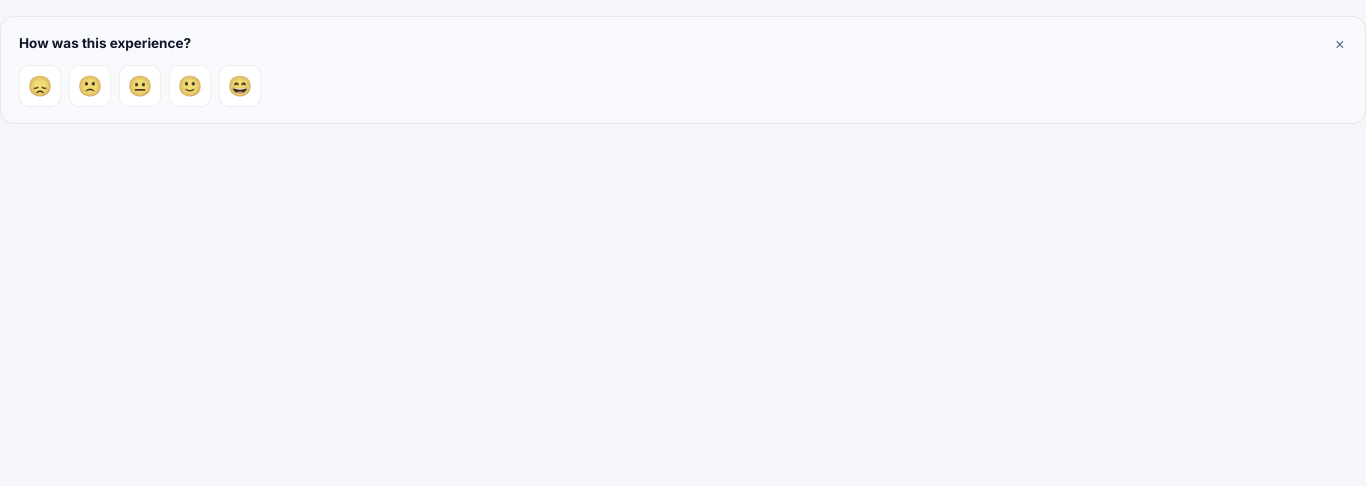
it: FeedbackPrompt (S1) › reveals difficulty + the blocker question after rating
Click the button named "Good" at (190, 86), box [169,65,211,107]
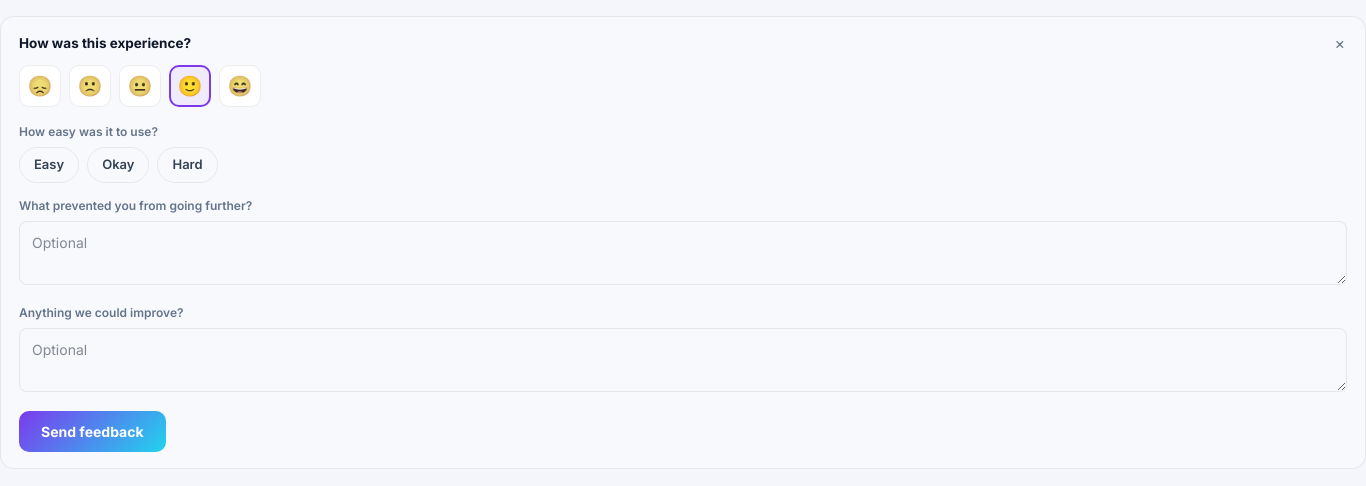
Check: the text "How easy was it to use?" is shown, box [19,124,158,139]
Check: the text "What prevented you from going further?" is shown, box [19,198,252,213]
